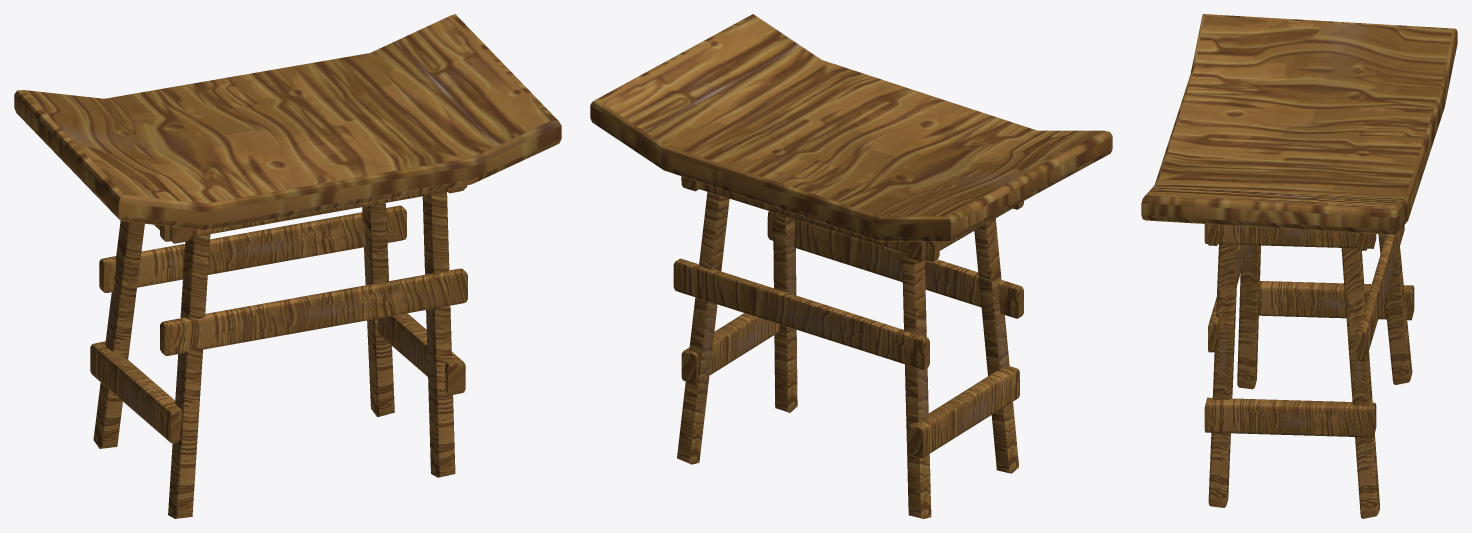
The model's file is STOOL.fbx.
The picture shows the model from 3 angles, left to right: view 1: azimuth 30°, elevation 25°; view 2: azimuth 150°, elevation 25°; view 3: azimuth 270°, elevation 25°; orthographic projection. The views are drawn at different scales.
Visible parts, largest first — view 1: polySurface55; view 2: polySurface55; view 3: polySurface55.
Part boxes in pixels (bbox=[...]): polySurface55: bbox=[14, 14, 561, 518]; polySurface55: bbox=[590, 14, 1112, 518]; polySurface55: bbox=[1141, 14, 1457, 518].
Bounding box in the file's own units: 6.58 × 5.23 × 4.35.
Materials: 1 (1 with a texture image).
